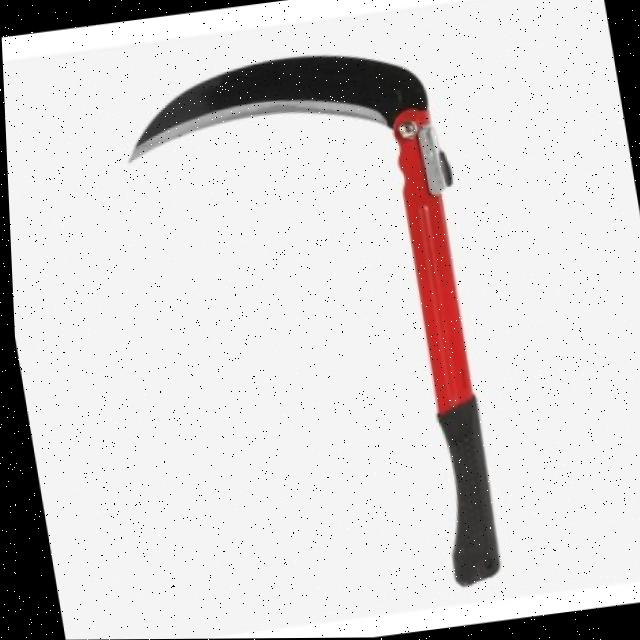sickle: (107, 37, 546, 617)
